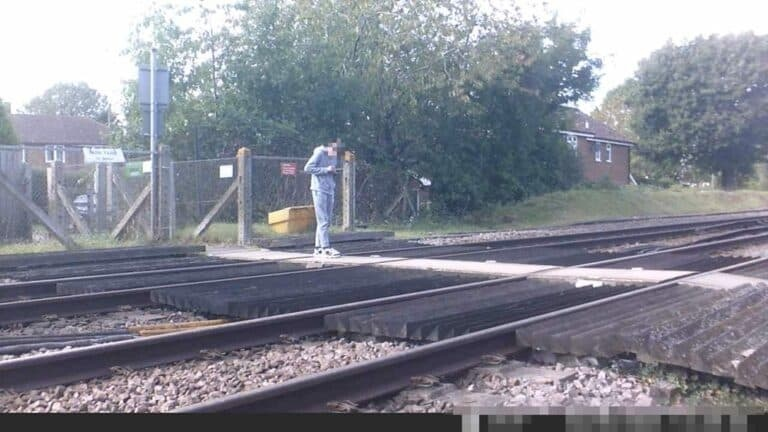person: (294, 135, 348, 260)
